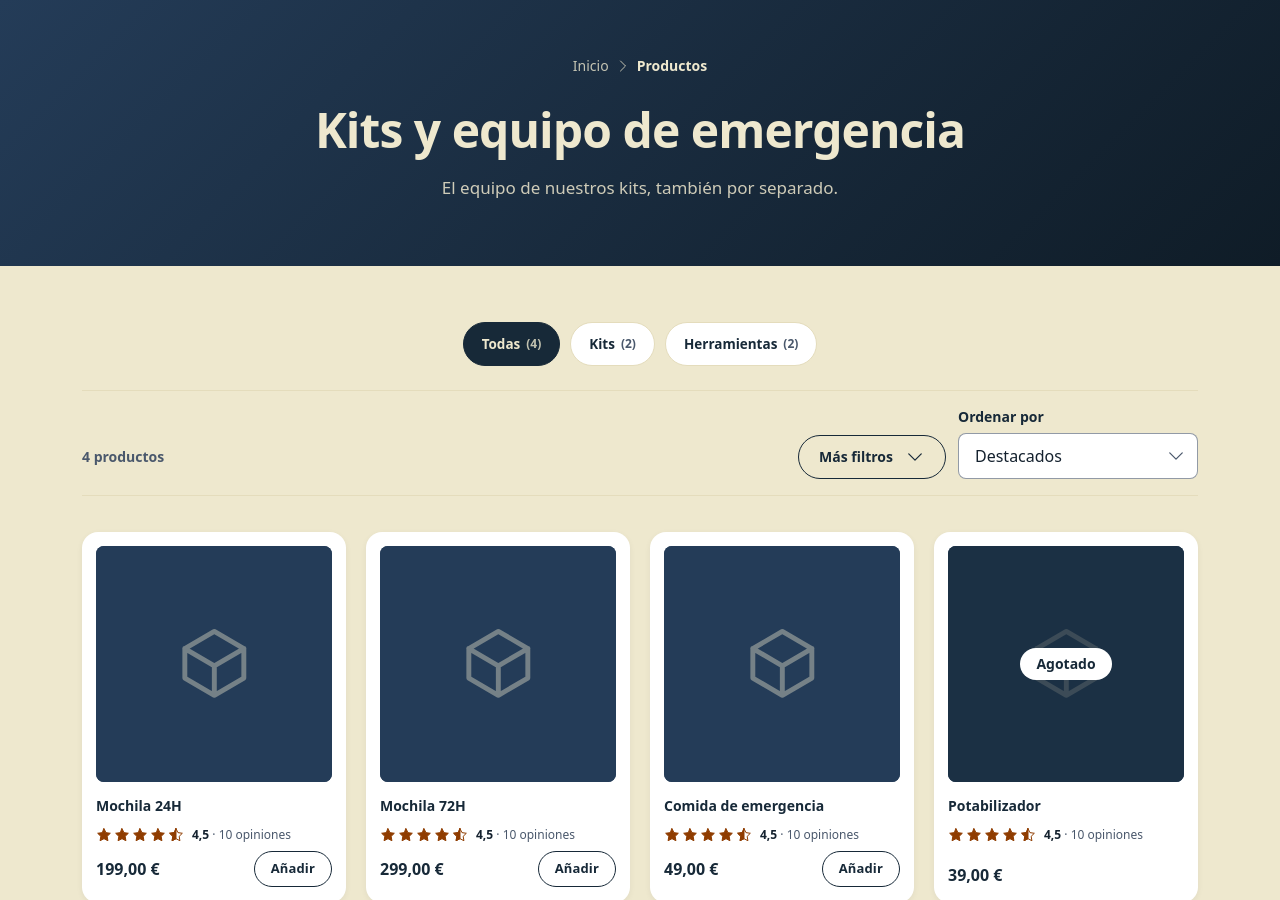
Test case: CatalogView › toggles the extra filters panel with an expanded state
The width and height of the screenshot is (1280, 900).
Click the button "Más filtros": (872, 457) [798,435,946,479]
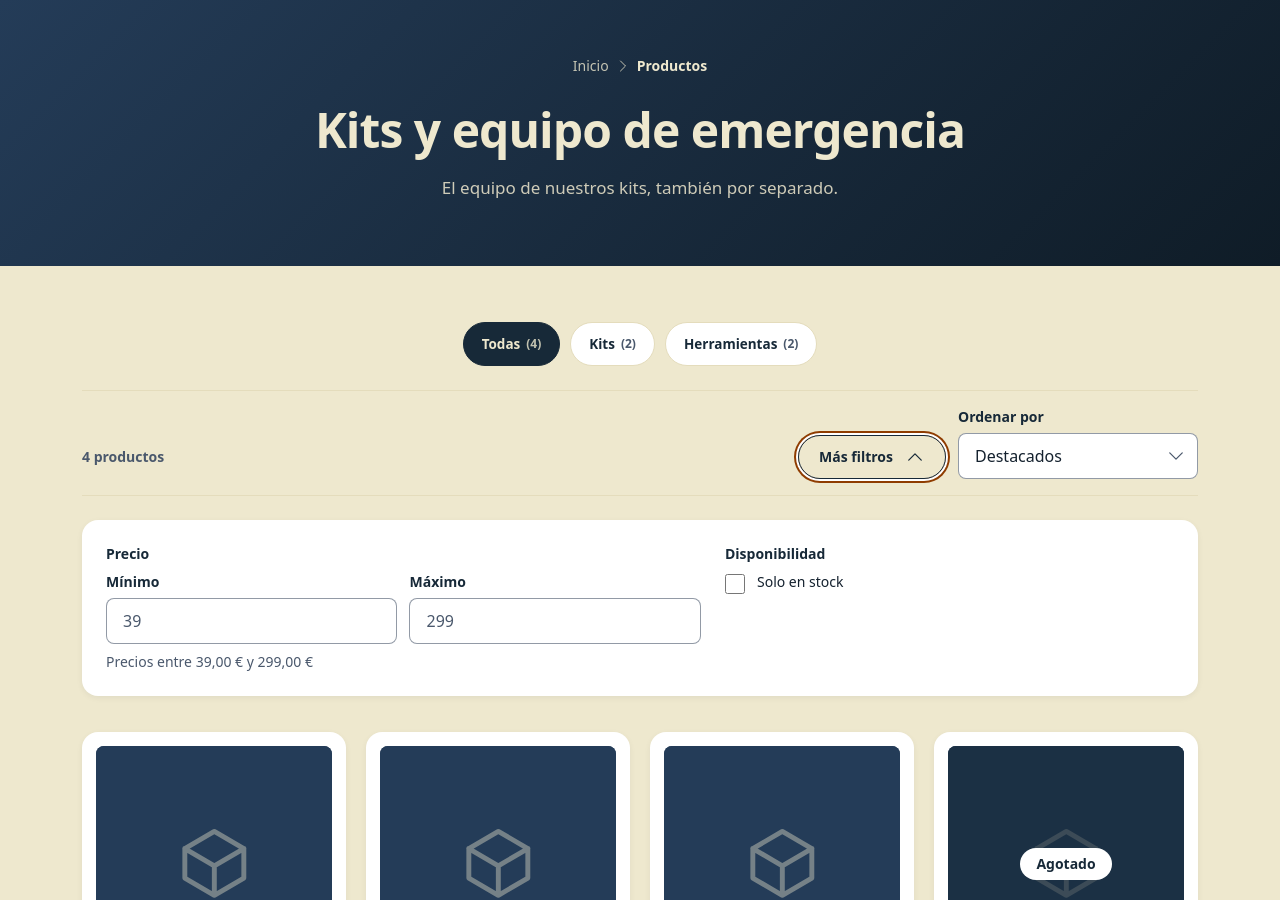
Expected: the button "Más filtros" is expanded, [798,435,946,479]
